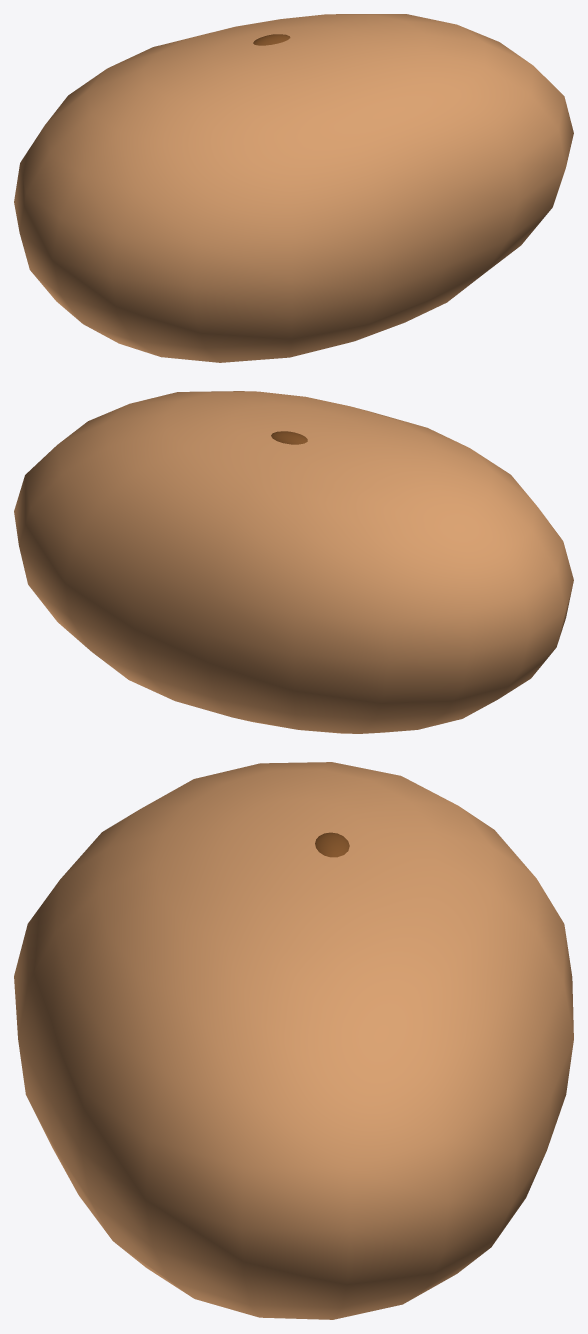
Rendered from food_ingredient_potato.gltf.
3 views of the same model, one above another, from view 1: azimuth 30°, elevation 25°; view 2: azimuth 150°, elevation 25°; view 3: azimuth 270°, elevation 25° (orthographic). The views are drawn at different scales.
Parts seen in each view (by area): view 1: PotatoTuber; view 2: PotatoTuber; view 3: PotatoTuber.
Boxes of the visible parts, left/top/right/bottom form: PotatoTuber: left=14, top=14, right=573, bottom=362; PotatoTuber: left=14, top=391, right=573, bottom=733; PotatoTuber: left=14, top=762, right=573, bottom=1319.
Size of the model in its own units: 0.4981 by 0.2531 by 0.3241.
